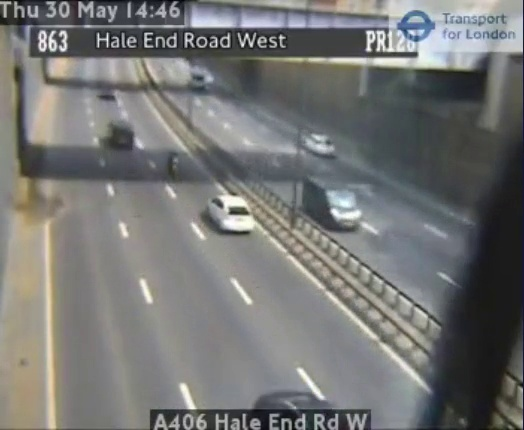car: (207, 196, 254, 231)
